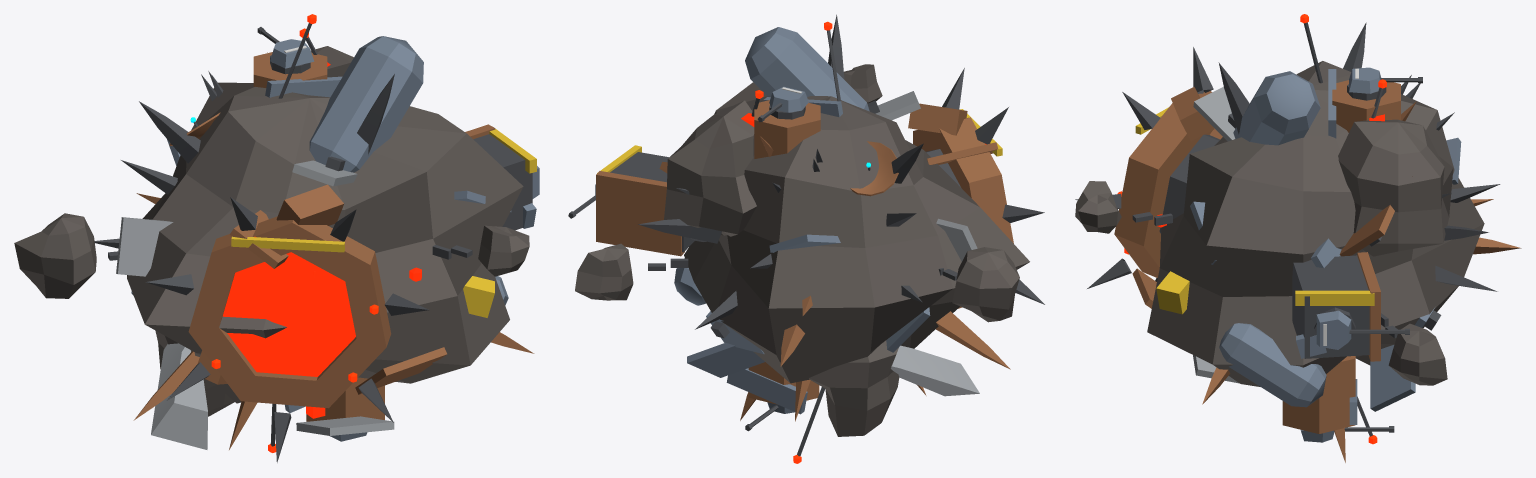
File: pirate_hideout.glb
The picture shows the model from 3 angles, left to right: view 1: azimuth 30°, elevation 25°; view 2: azimuth 150°, elevation 25°; view 3: azimuth 270°, elevation 25°; orthographic projection. The views are drawn at different scales.
Parts seen in each view (by area): view 1: pirate_hideout, Turret_2; view 2: pirate_hideout, Turret_2; view 3: pirate_hideout, Turret_0, Turret_2, Turret_1.
Boxes of the visible parts, bbox=[...] form: pirate_hideout: bbox=[14, 14, 536, 462]; Turret_2: bbox=[257, 27, 314, 74]; pirate_hideout: bbox=[575, 14, 1044, 463]; Turret_2: bbox=[757, 86, 808, 122]; pirate_hideout: bbox=[1075, 14, 1521, 462]; Turret_0: bbox=[1314, 307, 1409, 349]; Turret_2: bbox=[1347, 67, 1422, 100]; Turret_1: bbox=[1300, 426, 1394, 442].
Bounding box in the file's own units: 1.86 × 1.7 × 1.59.
